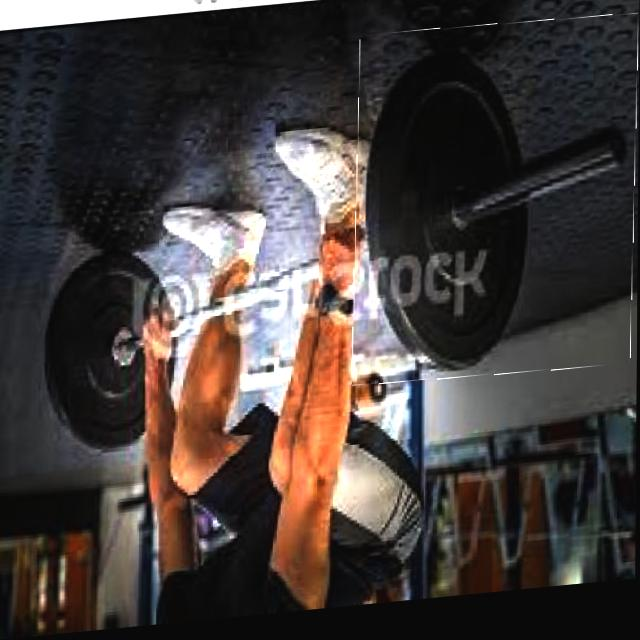barbell: (355, 23, 638, 397)
